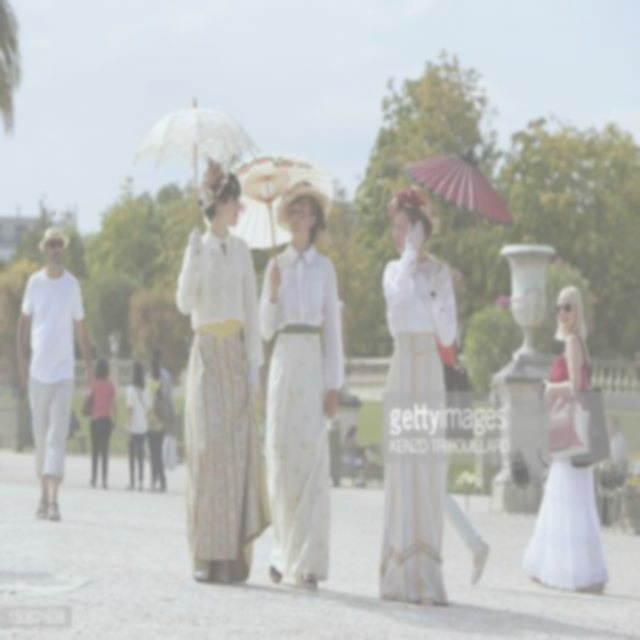pessoa: (174, 156, 276, 588), (257, 177, 345, 596), (375, 182, 458, 610), (520, 280, 615, 600), (14, 222, 98, 522), (435, 334, 492, 588), (80, 354, 118, 491), (123, 358, 154, 492), (144, 356, 172, 494), (142, 347, 174, 412), (604, 411, 630, 461), (342, 420, 361, 450), (66, 404, 80, 442), (356, 440, 370, 472)
